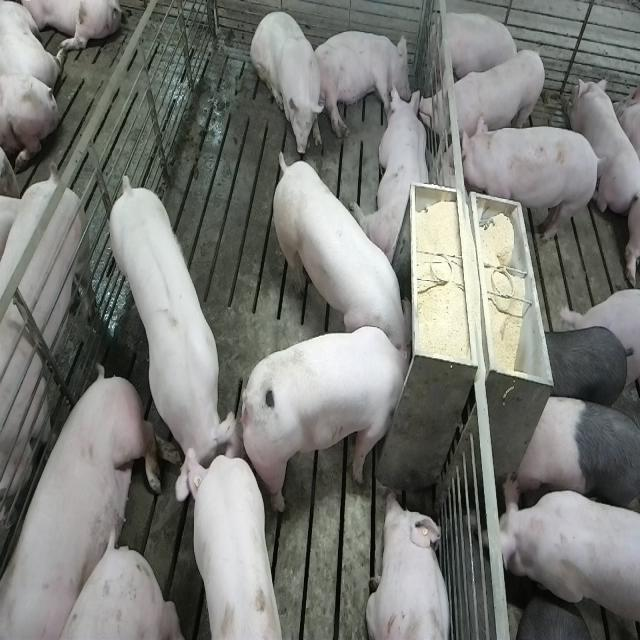Feeding: (246, 325, 420, 514), (268, 143, 410, 355)
Lateral_lying: (4, 365, 161, 640), (311, 29, 411, 140)
Sitting: (250, 7, 324, 158)
Standing: (105, 165, 236, 501), (0, 172, 100, 606), (498, 480, 638, 640), (176, 452, 281, 640), (461, 120, 604, 250), (514, 393, 638, 517), (535, 325, 633, 411)
Sternal_lying: (357, 86, 432, 266), (366, 490, 454, 640), (573, 74, 638, 220)
